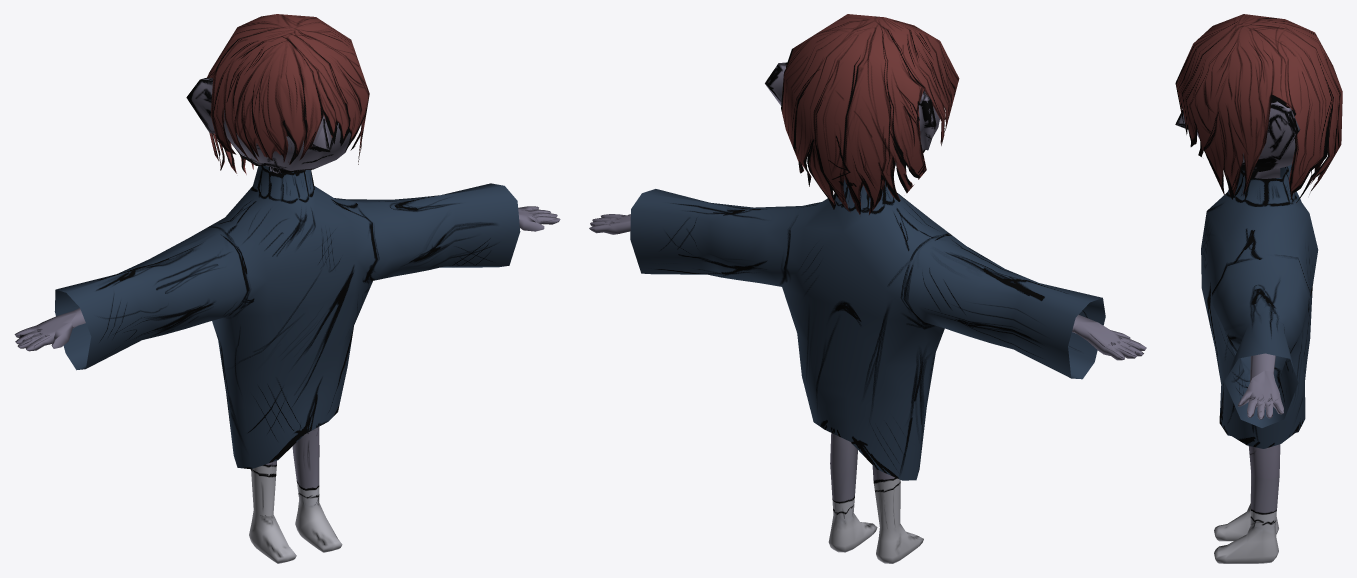
Rendered from char_rig_.fbx.
The picture shows the model from 3 angles, left to right: view 1: azimuth 30°, elevation 25°; view 2: azimuth 150°, elevation 25°; view 3: azimuth 270°, elevation 25°; orthographic projection. The views are drawn at different scales.
Visible parts, largest first — view 1: Cape, Hair, Body; view 2: Cape, Hair, Body; view 3: Cape, Hair, Body.
Boxes of the visible parts, x1=… form: Cape: x1=54, y1=166, x2=520, y2=469; Hair: x1=207, y1=14, x2=369, y2=174; Body: x1=14, y1=77, x2=560, y2=563; Cape: x1=630, y1=171, x2=1105, y2=480; Hair: x1=781, y1=14, x2=959, y2=214; Body: x1=589, y1=62, x2=1146, y2=563; Cape: x1=1201, y1=164, x2=1318, y2=448; Hair: x1=1175, y1=14, x2=1342, y2=202; Body: x1=1175, y1=98, x2=1300, y2=563.
Bounding box in the file's own units: 14.61 × 13.43 × 3.9.
Materials: 3 (3 with a texture image).
